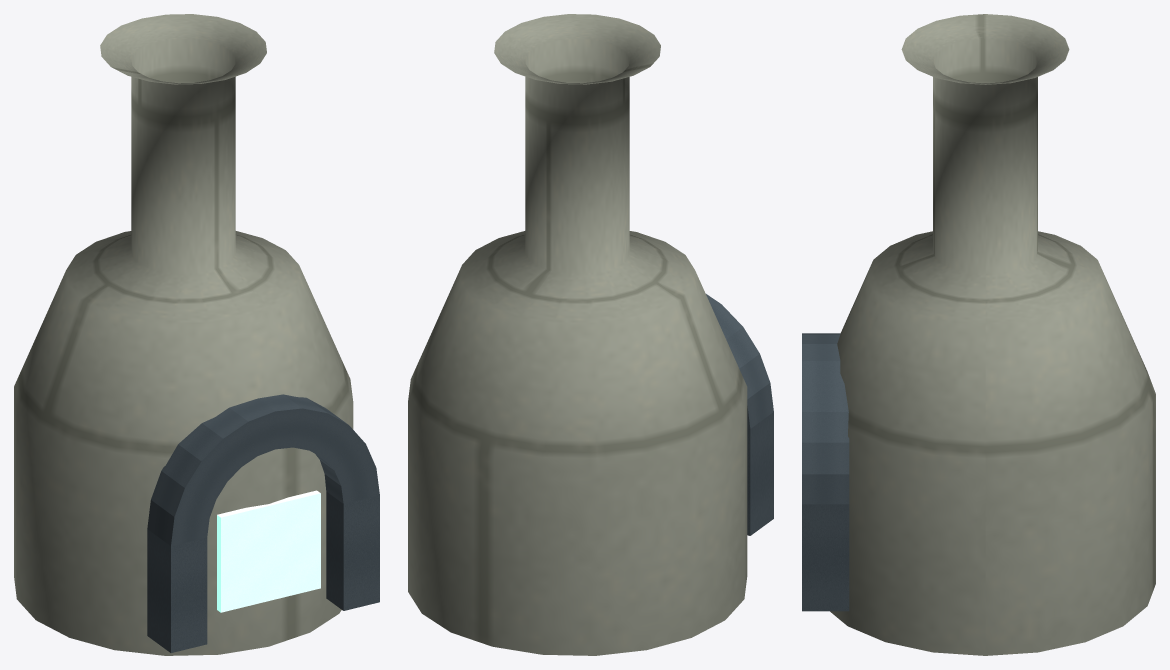
File: furnace.glb
3 views of the same model, side by side, from view 1: azimuth 30°, elevation 25°; view 2: azimuth 150°, elevation 25°; view 3: azimuth 270°, elevation 25° (orthographic).
Parts seen in each view (by area): view 1: furnace; view 2: furnace; view 3: furnace.
Part boxes in pixels (left/top/right/bottom): furnace: left=14, top=14, right=379, bottom=655; furnace: left=408, top=14, right=773, bottom=655; furnace: left=802, top=14, right=1155, bottom=655.
Bounding box in the file's own units: 1.3 × 2.25 × 1.35.
3 materials, 3 textured.
